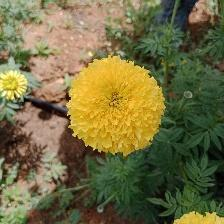marigold: (64, 57, 166, 157)
